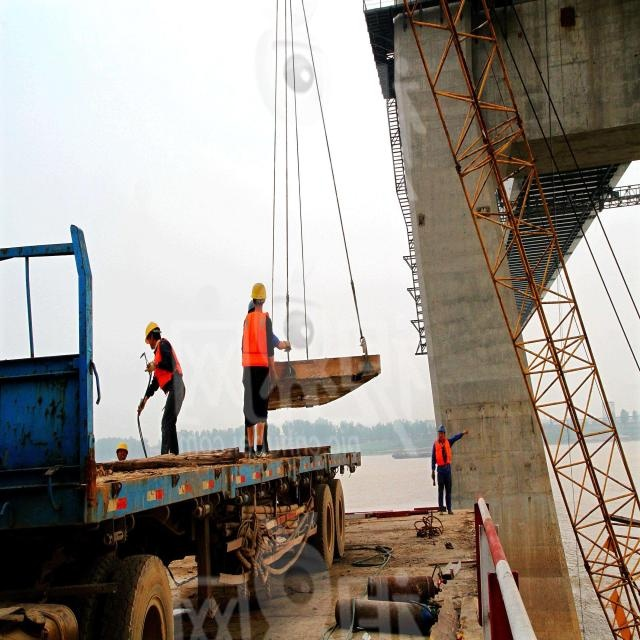Con_Casco: (143, 320, 161, 348), (250, 282, 266, 306)
Con_Chaleco: (239, 308, 269, 369)
